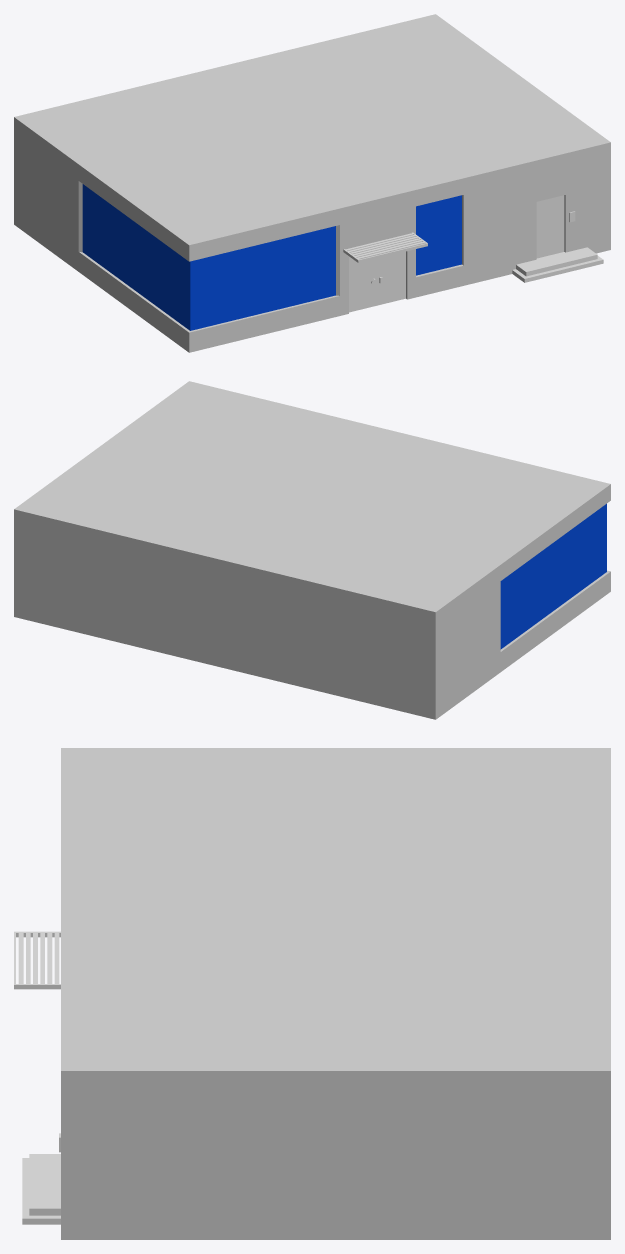
The model's file is First Floor Shop.fbx.
The picture shows the model from 3 angles, top to bottom: view 1: azimuth 30°, elevation 25°; view 2: azimuth 150°, elevation 25°; view 3: azimuth 270°, elevation 25°; orthographic projection. The views are drawn at different scales.
Visible parts, largest first — view 1: Shop window small, Door right, Stairs, flat door, sHADE tHINGY ONE; view 2: Shop window small; view 3: Shop window small, Stairs, sHADE tHINGY ONE.
Boxes of the visible parts, box(x1,y1,x2,y2) form: Shop window small: box(14, 14, 610, 352); Door right: box(349, 251, 405, 312); Stairs: box(512, 247, 603, 282); flat door: box(536, 195, 564, 258); sHADE tHINGY ONE: box(343, 232, 427, 262); Shop window small: box(14, 381, 610, 719); Shop window small: box(61, 748, 610, 1239); Stairs: box(22, 1154, 60, 1224); sHADE tHINGY ONE: box(14, 931, 60, 989).
Size of the model in its own units: 1600 by 390 by 1250.
